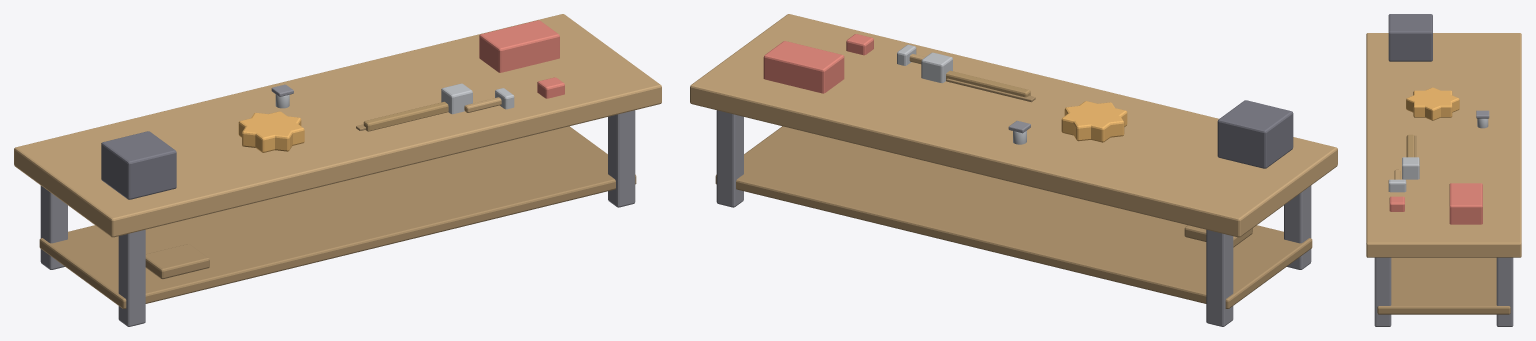
Rendered from верстак.glb.
The picture shows the model from 3 angles, left to right: view 1: azimuth 30°, elevation 25°; view 2: azimuth 150°, elevation 25°; view 3: azimuth 270°, elevation 25°; orthographic projection. The views are drawn at different scales.
Parts seen in each view (by area): view 1: верстак; view 2: верстак; view 3: верстак.
Boxes of the visible parts, x1,y1,x2,y2 form: верстак: [14, 14, 661, 326]; верстак: [690, 14, 1337, 326]; верстак: [1366, 14, 1521, 326].
Size of the model in its own units: 4.5 by 1.22 by 1.4.
